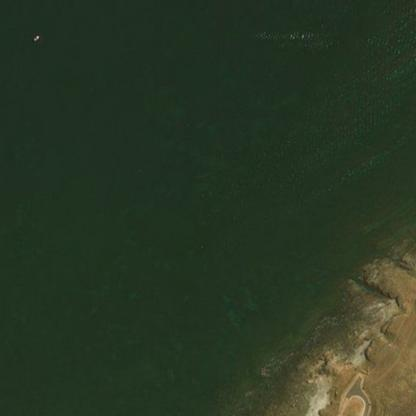ship: (30, 31, 42, 44)
